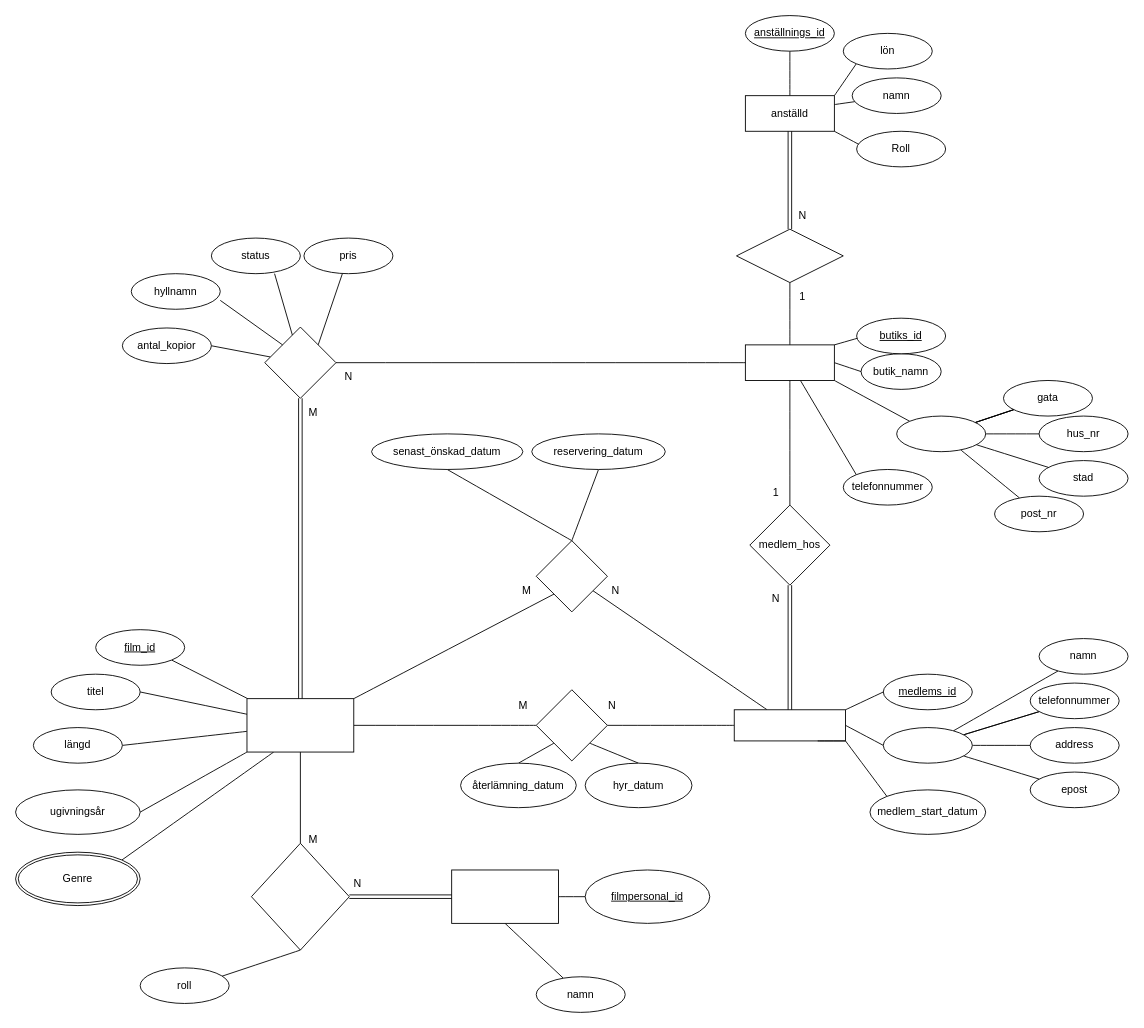
This 1144x1028 diagram has some shape labels left out. Each missing label, with the centre of its shape:
"butik" goes at (x=789, y=362).
"butiks_address" goes at (x=941, y=433).
"film" goes at (x=300, y=725).
"filmpersonal" goes at (x=504, y=896).
"har" goes at (x=300, y=362).
"hyr" goes at (x=571, y=725).
"jobbar_på" goes at (x=789, y=255).
"kontaktuppgiter" goes at (x=927, y=745).
"medlem" goes at (x=789, y=725).
"medverkar_i" goes at (x=300, y=896).
"reservering" goes at (x=571, y=576).
